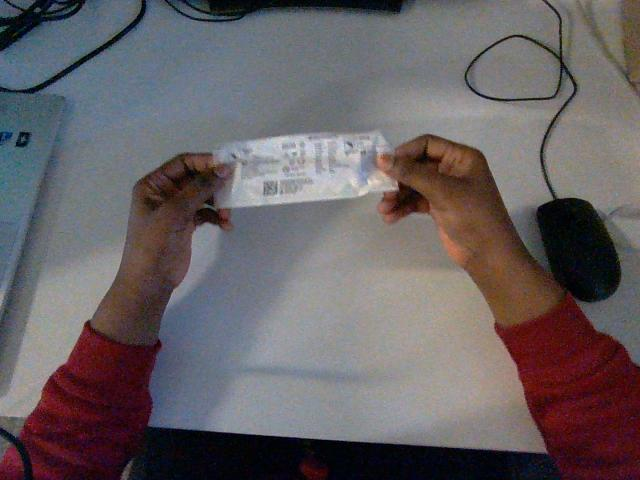syringe: (215, 131, 397, 207)
